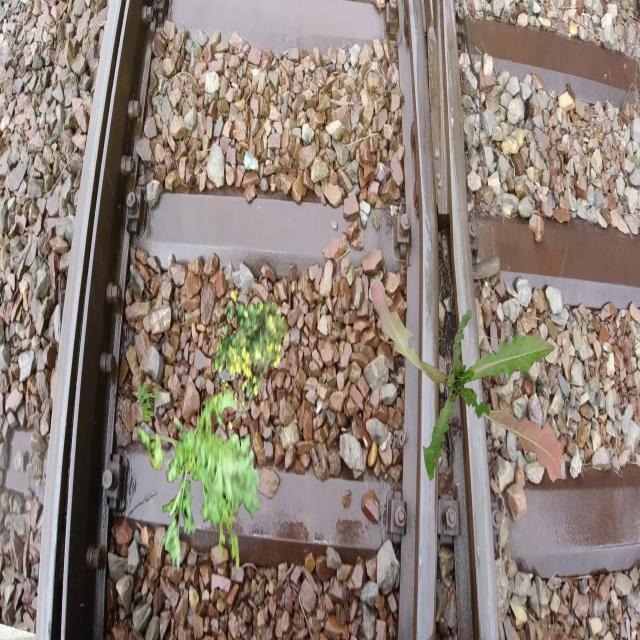Plant: (371, 280, 564, 482), (137, 380, 262, 576), (213, 291, 288, 431), (136, 381, 160, 422), (164, 450, 184, 483)
